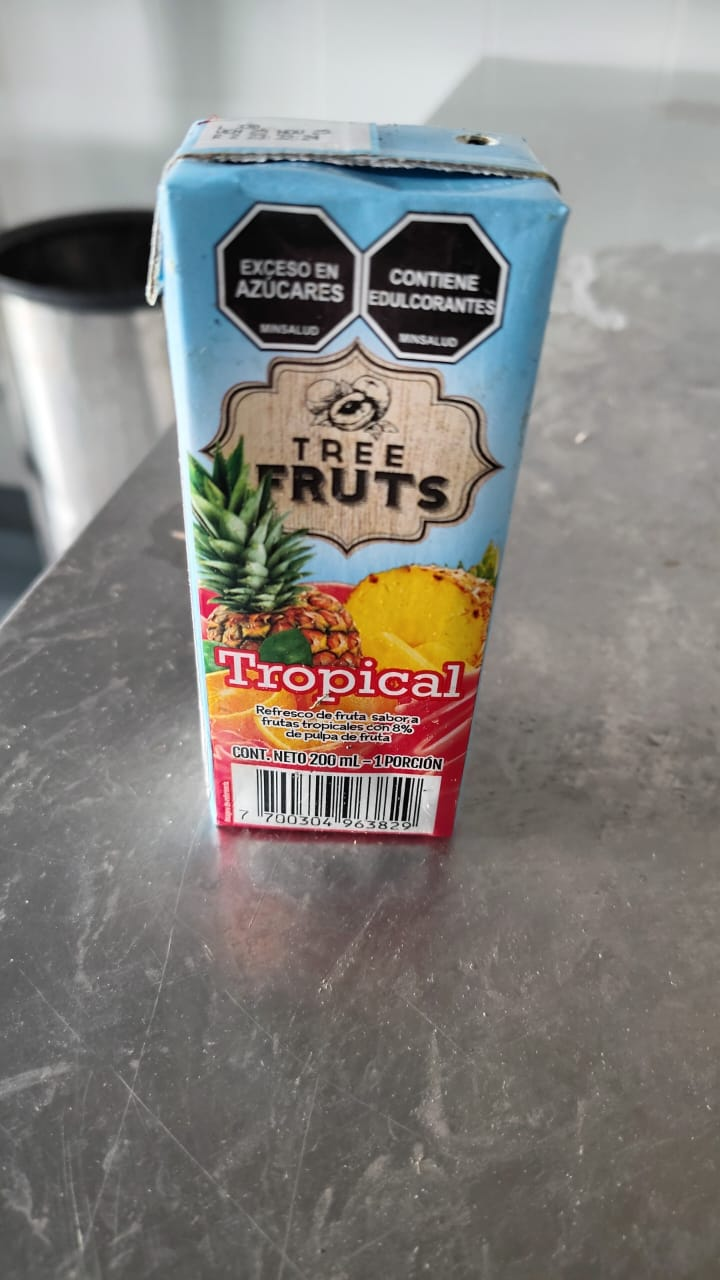Carton: (143, 112, 569, 843)
